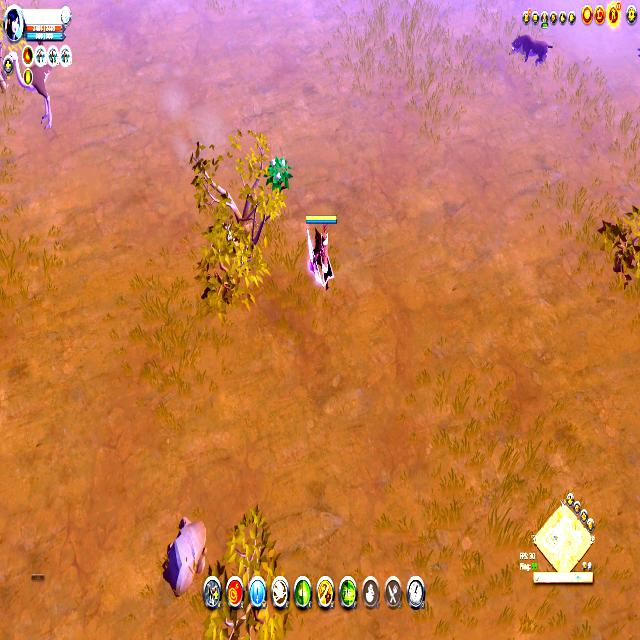hide: (267, 151, 292, 194)
ore: (4, 46, 56, 132), (509, 26, 554, 68)
red: (304, 208, 338, 290)
